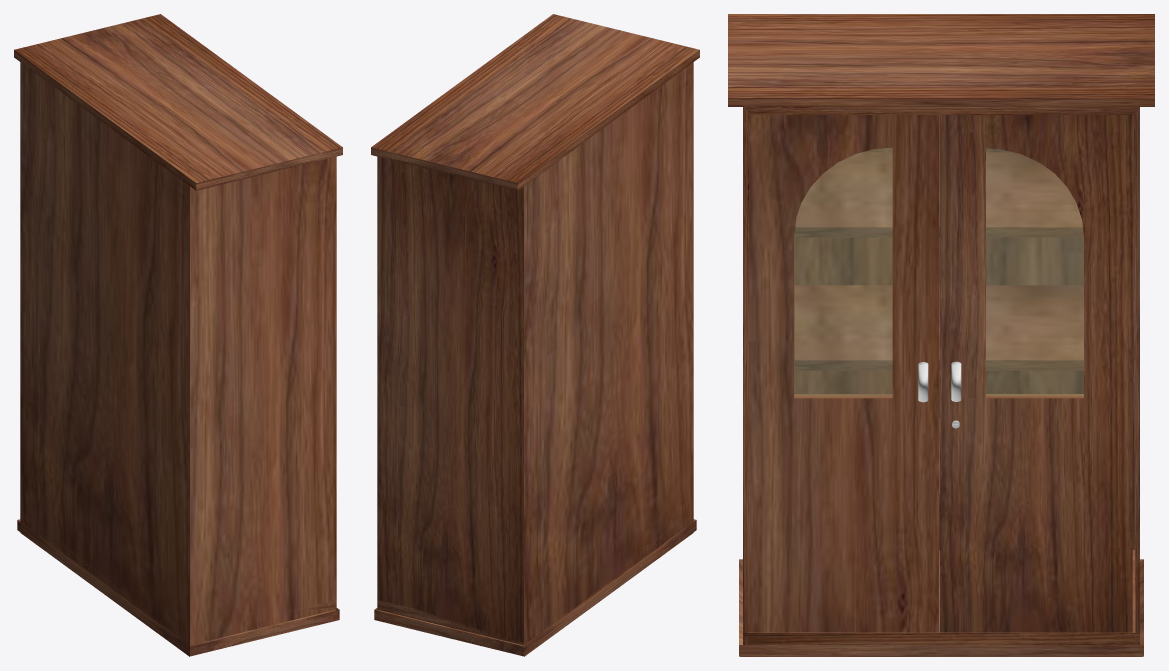
Rendered from uploads_files_3301583_wood+cabinet+blend.glb.
The picture shows the model from 3 angles, left to right: view 1: azimuth 30°, elevation 25°; view 2: azimuth 150°, elevation 25°; view 3: azimuth 270°, elevation 25°; orthographic projection. The views are drawn at different scales.
Parts seen in each view (by area): view 1: Cube, Cube.004; view 2: Cube, Cube.004; view 3: Plane.002, Plane.001, Cube.004, Cube, Cube.001, Cube.002, Cube.003.
Boxes of the visible parts, left/top/right/bottom form: Cube: left=17, top=61, right=339, bottom=656; Cube.004: left=14, top=14, right=342, bottom=190; Cube: left=374, top=62, right=696, bottom=656; Cube.004: left=371, top=14, right=699, bottom=190; Plane.002: left=940, top=115, right=1132, bottom=632; Plane.001: left=747, top=115, right=938, bottom=632; Cube.004: left=728, top=14, right=1154, bottom=106; Cube: left=739, top=105, right=1143, bottom=656; Cube.001: left=794, top=152, right=1083, bottom=503; Cube.002: left=794, top=148, right=892, bottom=396; Cube.003: left=986, top=149, right=1083, bottom=396.
Bounding box in the file's own units: 2.2 × 6.23 × 4.3.
Materials: 4 (1 with a texture image).
